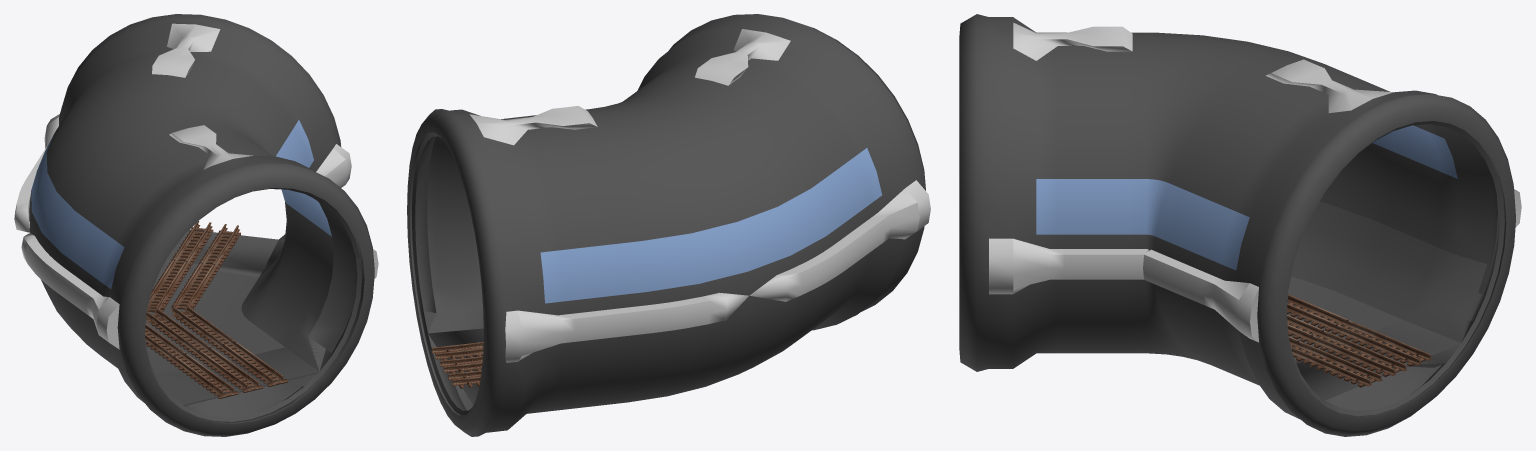
The model's file is subw_right.fbx.
3 renders of one model, left to right at view 1: azimuth 30°, elevation 25°; view 2: azimuth 150°, elevation 25°; view 3: azimuth 270°, elevation 25°, orthographic. The views are drawn at different scales.
Visible parts, largest first — view 1: subw_R_tube, subw_R_LaR, subw_R_LaM, subw_R_LaL; view 2: subw_R_tube, subw_R_LaR, subw_R_LaM; view 3: subw_R_tube, subw_R_LaL, subw_R_LaM, subw_R_LaR.
Boxes of the visible parts, x1=… form: subw_R_tube: x1=14, y1=14, x2=378, y2=436; subw_R_LaR: x1=171, y1=224, x2=287, y2=386; subw_R_LaM: x1=149, y1=221, x2=263, y2=392; subw_R_LaL: x1=145, y1=324, x2=238, y2=398; subw_R_tube: x1=407, y1=14, x2=930, y2=436; subw_R_LaR: x1=431, y1=342, x2=483, y2=360; subw_R_LaM: x1=440, y1=356, x2=482, y2=373; subw_R_tube: x1=959, y1=14, x2=1521, y2=436; subw_R_LaL: x1=1287, y1=294, x2=1431, y2=366; subw_R_LaM: x1=1287, y1=314, x2=1407, y2=377; subw_R_LaR: x1=1288, y1=336, x2=1382, y2=387.
Bounding box in the file's own units: 256 × 185 × 290.
4 materials, 1 textured.
